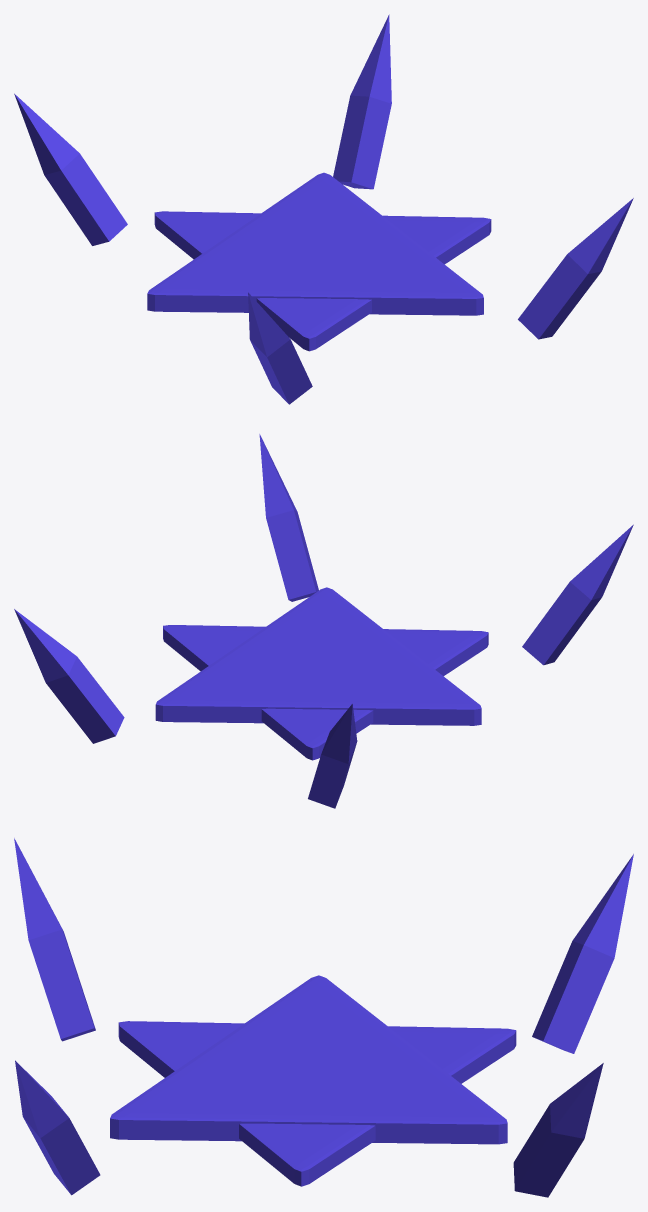
Rendered from sm_EnemySpwanPortal.fbx.
3 renders of one model, top to bottom at view 1: azimuth 30°, elevation 25°; view 2: azimuth 150°, elevation 25°; view 3: azimuth 270°, elevation 25°, orthographic. The views are drawn at different scales.
Parts seen in each view (by area): view 1: Cylinder; view 2: Cylinder; view 3: Cylinder.
Part boxes in pixels (x1,y1,x2,y2): Cylinder: (14, 14, 633, 404); Cylinder: (14, 434, 633, 808); Cylinder: (14, 838, 633, 1197).
Bounding box in the file's own units: 417 × 145 × 485.
